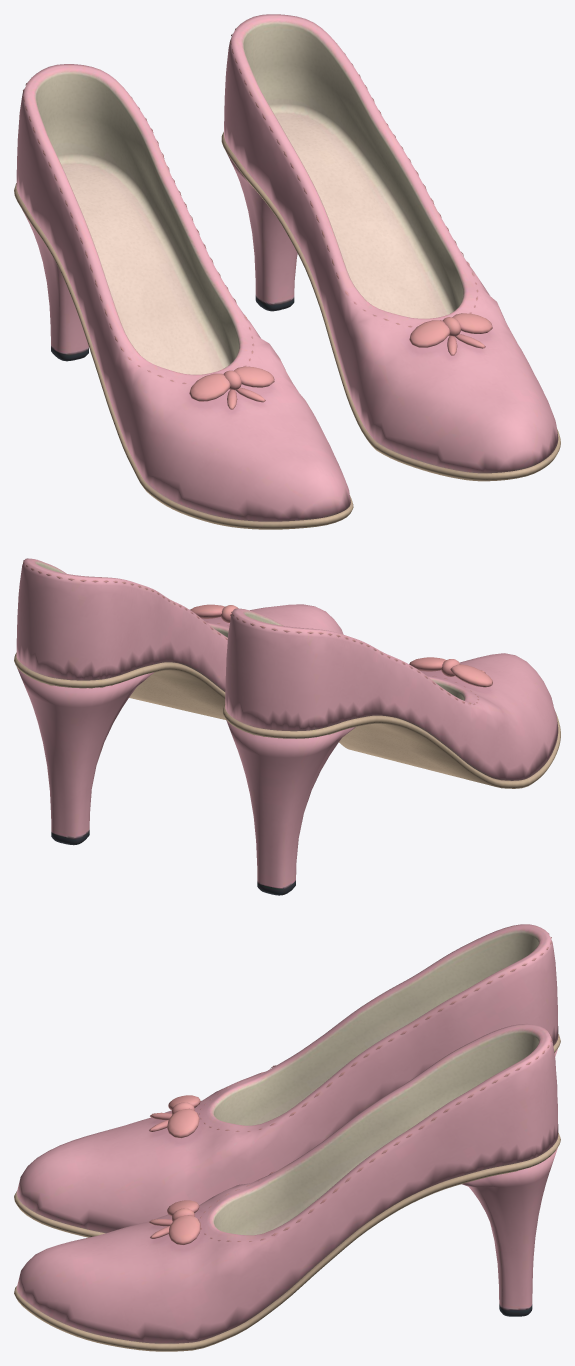
The model's file is zapatos_m1.glb.
The picture shows the model from 3 angles, top to bottom: view 1: azimuth 30°, elevation 25°; view 2: azimuth 150°, elevation 25°; view 3: azimuth 270°, elevation 25°; orthographic projection.
Parts seen in each view (by area): view 1: high-heels_body; view 2: high-heels_body; view 3: high-heels_body.
Boxes of the visible parts, <box> form: high-heels_body: <box>14,14,560,529</box>; high-heels_body: <box>14,558,560,895</box>; high-heels_body: <box>14,924,560,1351</box>.
Size of the model in its own units: 0.2415 by 0.1656 by 0.3.
Materials: 1 (1 with a texture image).
